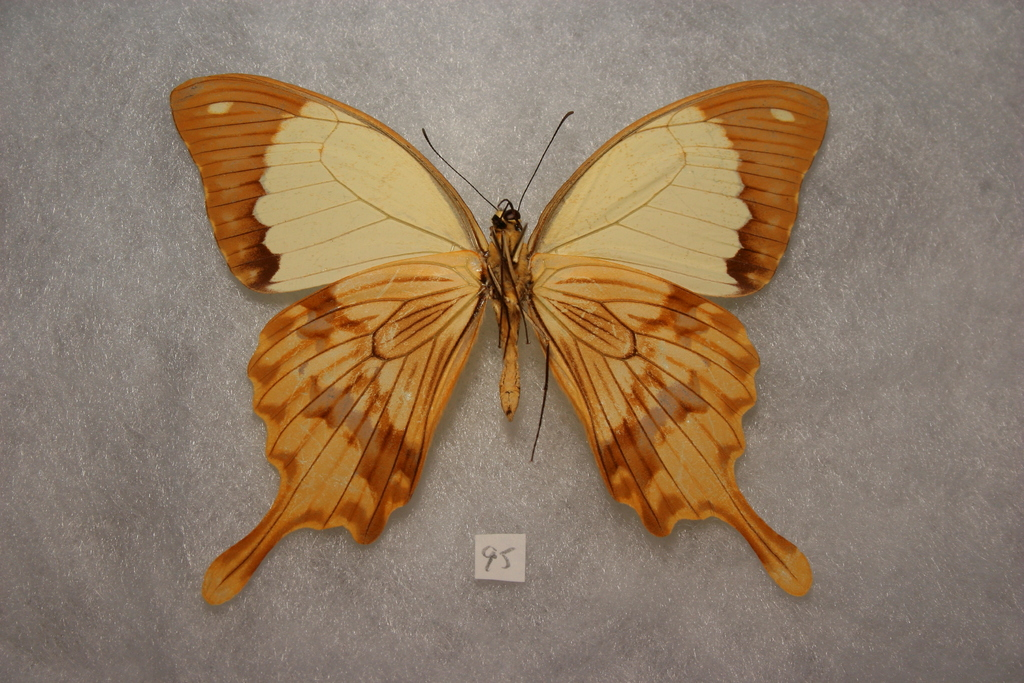Butterfly: (143, 35, 858, 638)
